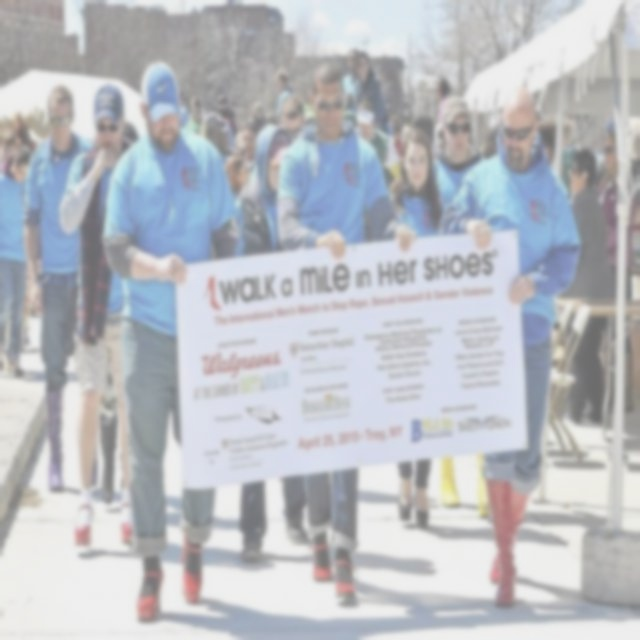pessoa: (273, 55, 417, 608), (104, 58, 241, 624), (438, 82, 582, 610), (57, 81, 139, 549), (233, 122, 310, 566), (22, 84, 94, 496), (386, 126, 446, 530), (562, 147, 616, 426), (596, 128, 637, 403), (0, 142, 32, 378), (428, 92, 487, 213), (355, 98, 391, 243), (178, 87, 240, 153), (100, 354, 126, 507), (627, 120, 639, 416), (352, 48, 387, 132), (222, 152, 250, 256), (594, 99, 618, 188), (558, 116, 582, 201), (242, 94, 266, 167), (0, 114, 30, 168), (272, 66, 296, 130), (387, 98, 412, 156), (342, 47, 363, 115), (279, 94, 305, 142), (479, 120, 505, 160), (436, 74, 454, 124), (119, 115, 141, 149)
